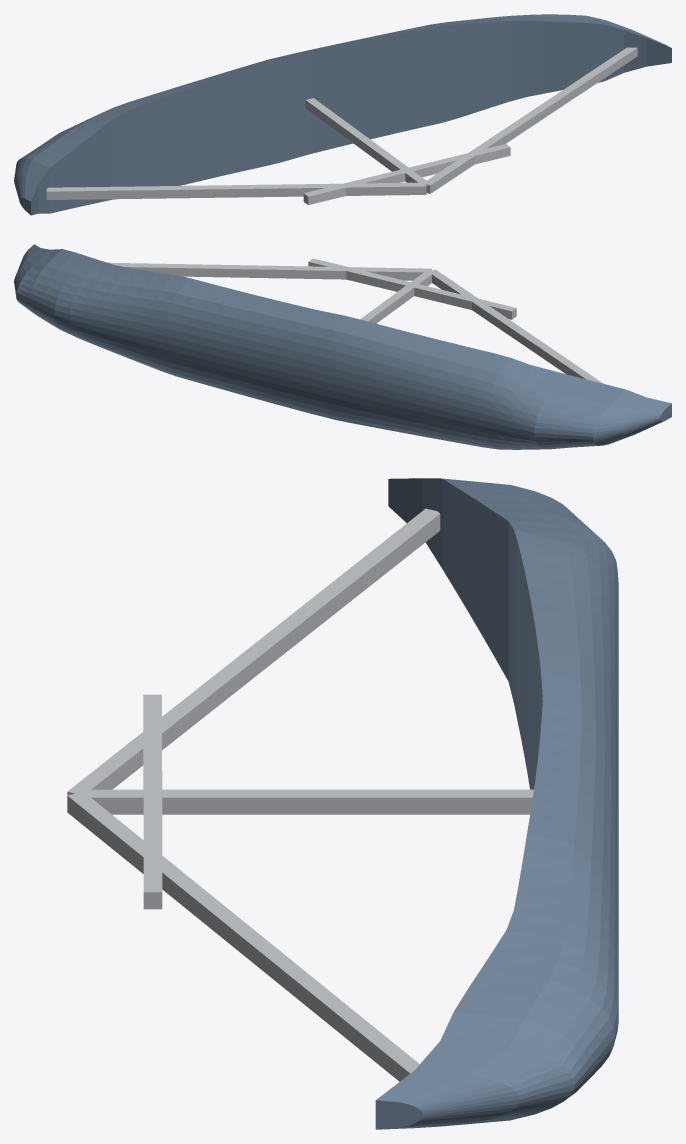
Rendered from loft-longship-sheered.glb.
3 renders of one model, top to bottom at view 1: azimuth 30°, elevation 25°; view 2: azimuth 150°, elevation 25°; view 3: azimuth 270°, elevation 25°, orthographic. The views are drawn at different scales.
Visible parts, largest first — view 1: loft-longship-sheered; view 2: loft-longship-sheered; view 3: loft-longship-sheered.
Part boxes in pixels (left/top/right/bottom): loft-longship-sheered: left=14, top=14, right=671, bottom=215; loft-longship-sheered: left=14, top=244, right=671, bottom=449; loft-longship-sheered: left=67, top=478, right=618, bottom=1129.
Size of the model in its own units: 1.89 by 0.2936 by 0.7079.
